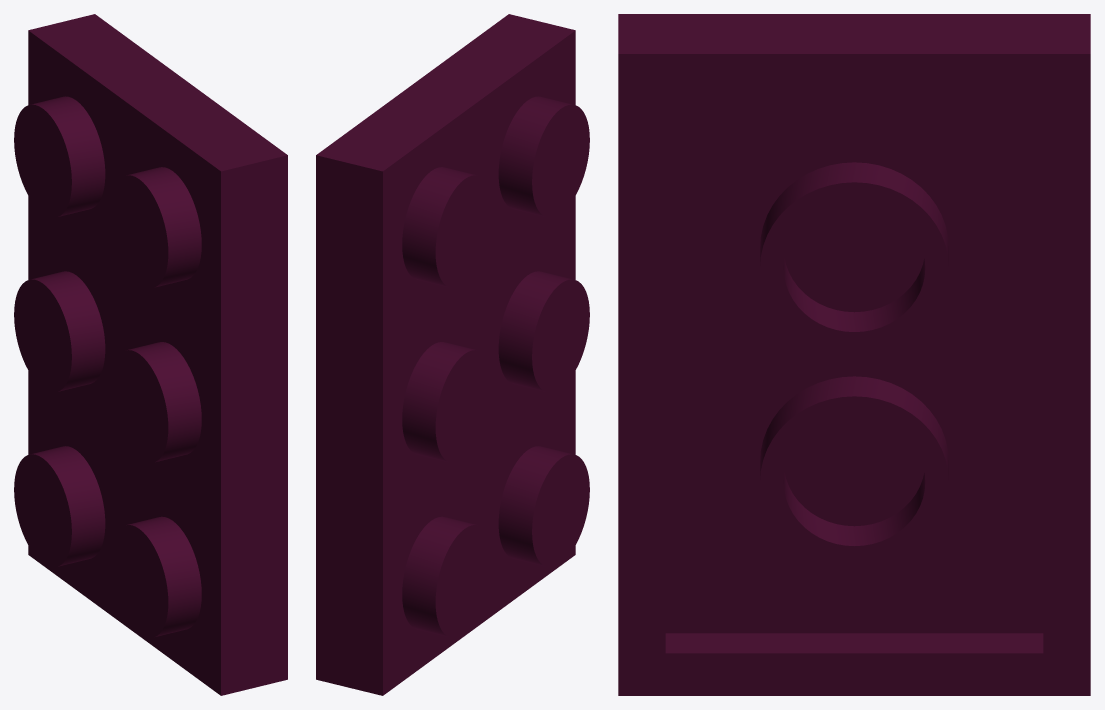
Rendered from plate2*3_magenta.obj.
The picture shows the model from 3 angles, left to right: view 1: azimuth 30°, elevation 25°; view 2: azimuth 150°, elevation 25°; view 3: azimuth 270°, elevation 25°; orthographic projection. The views are drawn at different scales.
Size of the model in its own units: 12 by 60 by 40.
